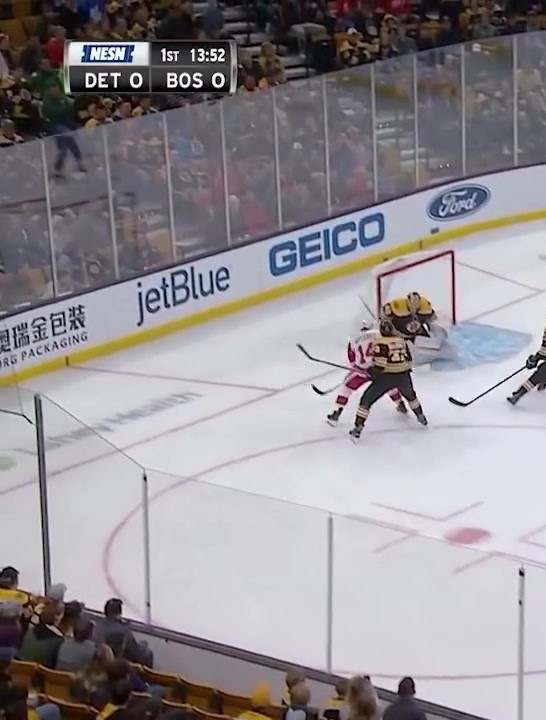Geico: (264, 205, 388, 283)
